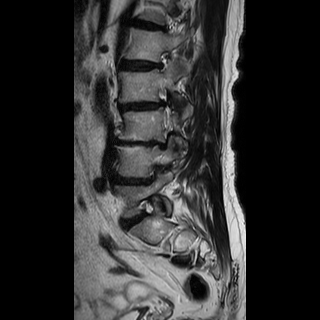RFS0: (134, 191, 159, 222)
RFS1: (152, 46, 174, 77)
